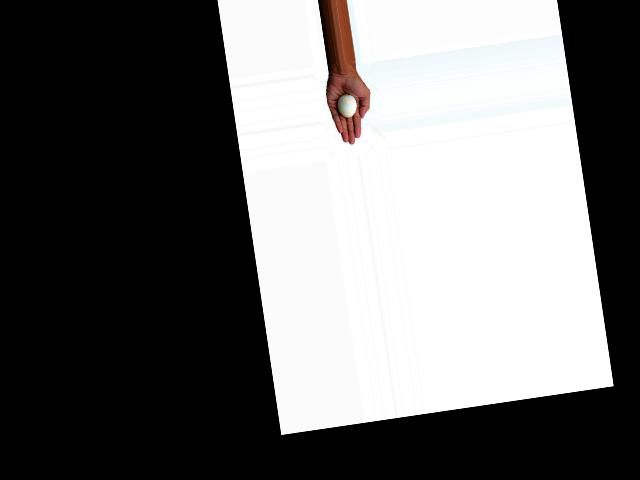egg: (336, 93, 357, 119)
